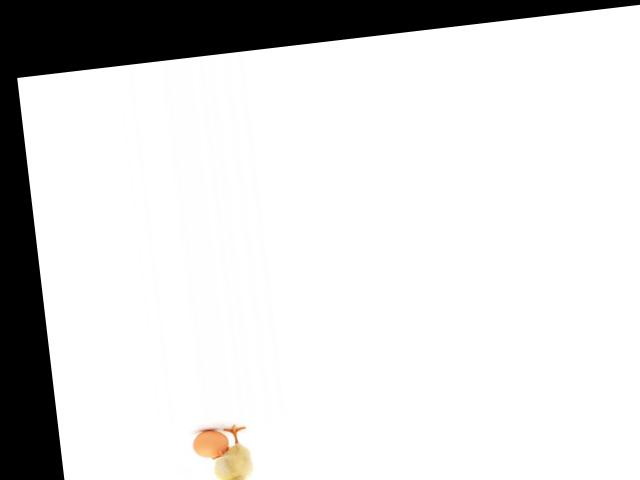egg: (191, 428, 231, 460)
